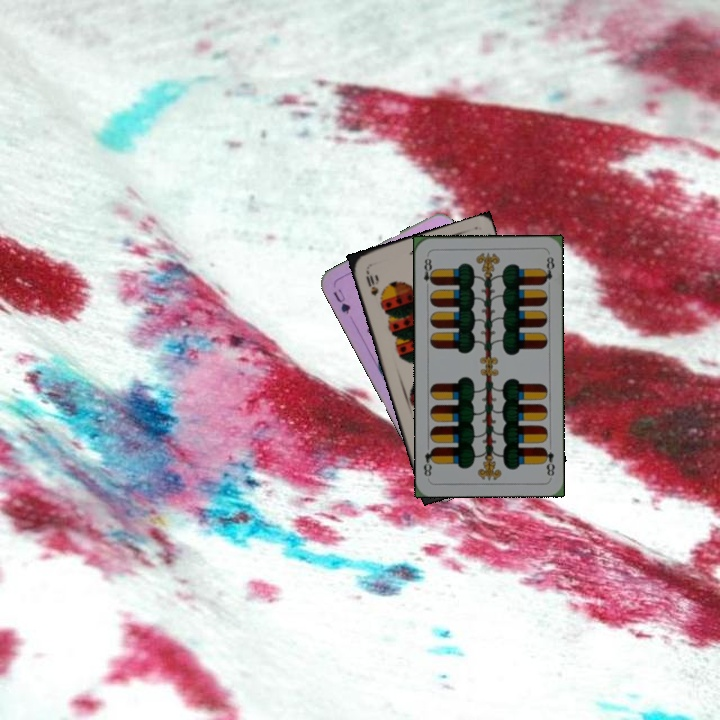E8: (420, 251, 437, 292), (539, 444, 557, 478)
GU: (329, 285, 353, 317)
S10: (362, 265, 381, 299)
